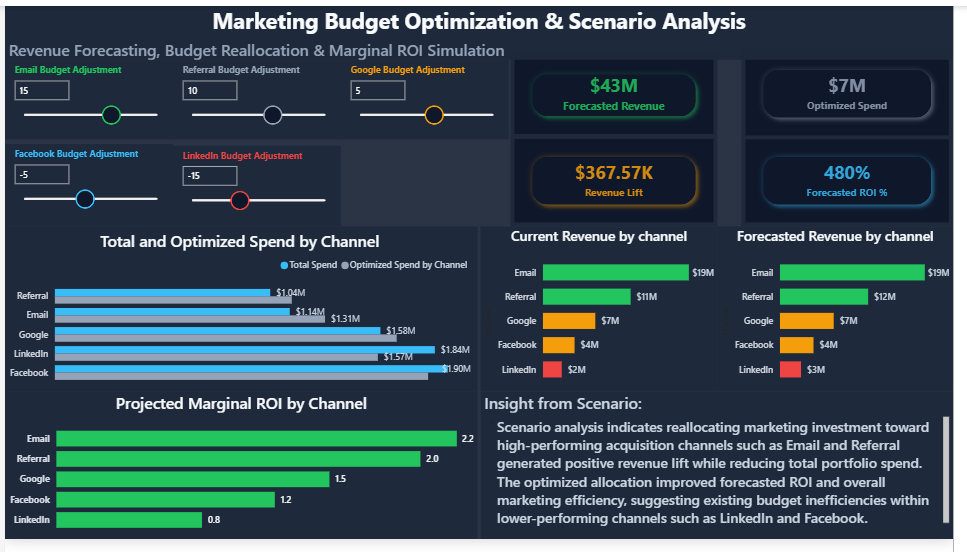

This screenshot's page, from the dashboard's own definition file:
{"tool":"powerbi","page":{"name":"Page 3","canvas":[1280,720],"ordinal":2},"visuals":[{"type":"slicer","fields":{"Values":["Email Budget Adjustment.Email Budget Adjustment"]},"box":[0,72.9,226.8,107.3],"z":0},{"type":"slicer","fields":{"Values":["Facebook Budget Adjustment.Facebook Budget Adjustment"]},"box":[0,186.3,226.8,111.4],"z":1000},{"type":"slicer","fields":{"Values":["Referral Budget Adjustment.Referral Budget Adjustment"]},"box":[226.8,72.9,226.8,107.3],"z":2000},{"type":"slicer","fields":{"Values":["Google Budget Adjustment.Google Budget Adjustment"]},"box":[453.7,72.9,226.8,107.3],"z":3000},{"type":"slicer","fields":{"Values":["LinkedIn Budget Adjustment.LinkedIn Budget Adjustment"]},"box":[226.8,188.4,226.8,109.4],"z":4000},{"type":"cardVisual","fields":{"Data":["Measure.Forecasted Revenue"]},"box":[682.5,62.8,279.5,115.4],"z":5000},{"type":"cardVisual","fields":{"Data":["Measure.Forecasted ROI %"]},"box":[994.4,174.2,285.6,123.5],"z":6000},{"type":"cardVisual","fields":{"Data":["Measure.Revenue Lift"]},"box":[682.5,174.2,279.5,123.5],"z":7000},{"type":"cardVisual","fields":{"Data":["Measure.Optimized Spend"]},"box":[994.4,56.7,285.6,123.5],"z":8000},{"type":"clusteredBarChart","title":"Total and Optimized Spend by Channel ","fields":{"Category":["marketing_performance.channel"],"Y":["Measure.Total Spend","Measure.Optimized Spend by Channel"]},"box":[0,297.7,638,222.8],"z":9000},{"type":"clusteredBarChart","title":"Projected Marginal ROI by Channel","fields":{"Category":["marketing_performance.channel"],"Y":["Measure.Marginal ROI by Channel"]},"box":[0,520.5,638,200.5],"z":10000},{"type":"textbox","title":"Key Recommendation:","box":[642,520.5,638,200.5],"z":11000},{"type":"textbox","title":"Marketing Budget Optimization & Scenario Analysis","box":[0,0,1280,72.9],"z":12000},{"type":"clusteredBarChart","title":"Current Revenue by channel","fields":{"Category":["marketing_performance.channel"],"Y":["Measure.Total Revenue"]},"box":[642,297.7,320,222.8],"z":13000},{"type":"clusteredBarChart","fields":{"Category":["marketing_performance.channel"],"Y":["Measure.Forecasted Revenue"]},"box":[962,297.7,318,222.8],"z":14000}]}

Visuals, with their boxes in screenshot pixels (x1, y1, x2, y2), scaled from the page's 1280x720 canvas onto the 967x552 screenshot:
slicer - Email Budget Adjustment.Email Budget Adjustment: box(0, 56, 171, 138)
slicer - Facebook Budget Adjustment.Facebook Budget Adjustment: box(0, 143, 171, 228)
slicer - Referral Budget Adjustment.Referral Budget Adjustment: box(171, 56, 343, 138)
slicer - Google Budget Adjustment.Google Budget Adjustment: box(343, 56, 514, 138)
slicer - LinkedIn Budget Adjustment.LinkedIn Budget Adjustment: box(171, 144, 343, 228)
cardVisual - Measure.Forecasted Revenue: box(516, 48, 727, 137)
cardVisual - Measure.Forecasted ROI %: box(751, 134, 966, 228)
cardVisual - Measure.Revenue Lift: box(516, 134, 727, 228)
cardVisual - Measure.Optimized Spend: box(751, 43, 966, 138)
"Total and Optimized Spend by Channel " clusteredBarChart: box(0, 228, 482, 399)
"Projected Marginal ROI by Channel" clusteredBarChart: box(0, 399, 482, 551)
"Key Recommendation:" textbox: box(485, 399, 966, 551)
"Marketing Budget Optimization & Scenario Analysis" textbox: box(0, 0, 966, 56)
"Current Revenue by channel" clusteredBarChart: box(485, 228, 727, 399)
clusteredBarChart - marketing_performance.channel x Measure.Forecasted Revenue: box(727, 228, 966, 399)
